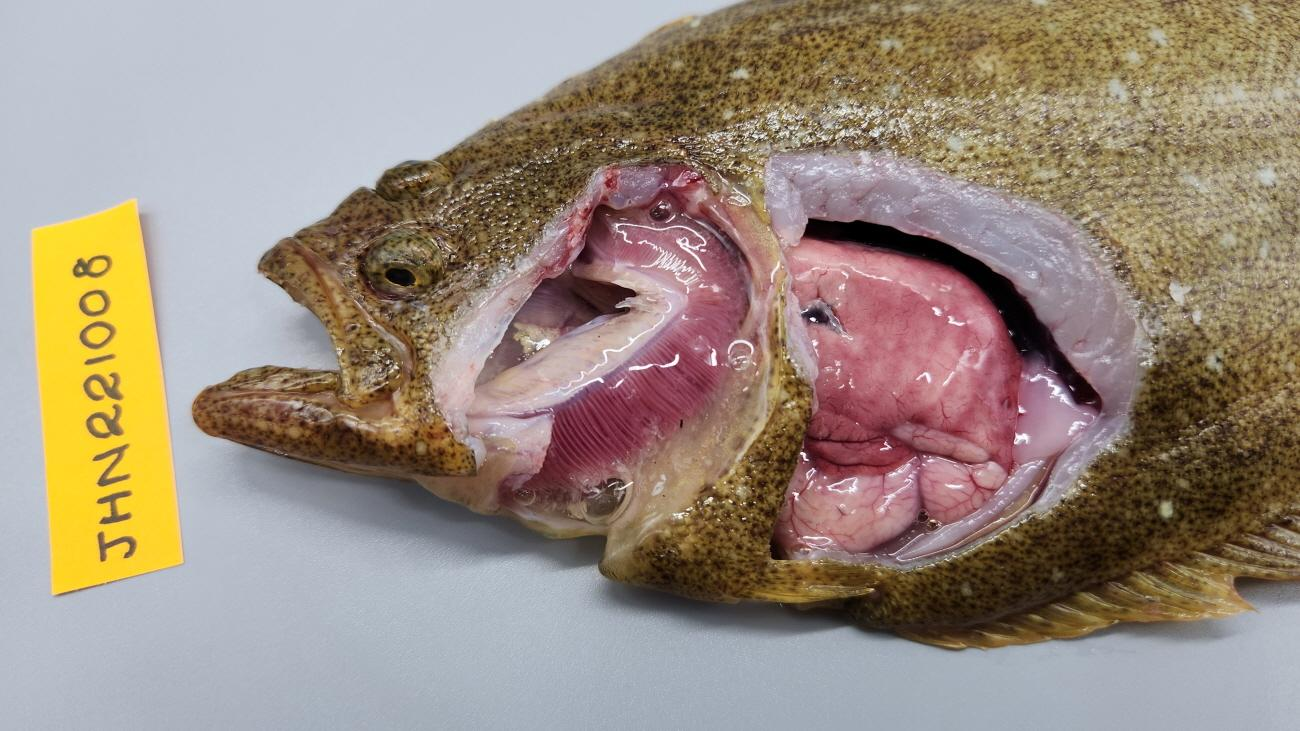POLIN: (786, 235, 1026, 478)
